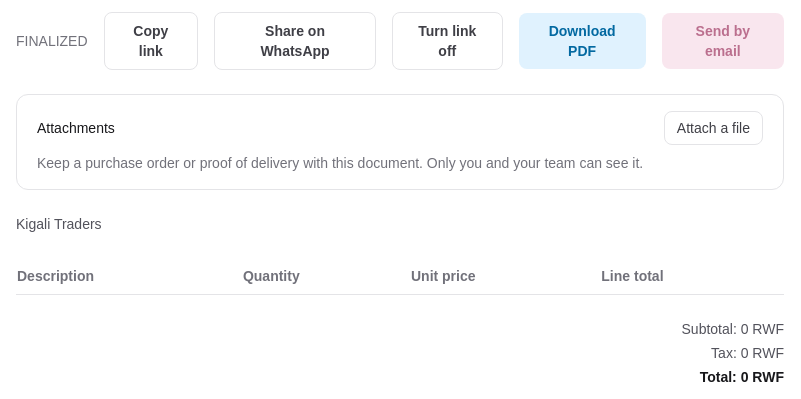
Test: DocumentView › copies the public share link and shows a confirmation
The image size is (801, 399).
Click the button "Copy link": (151, 41) [104,12,198,70]
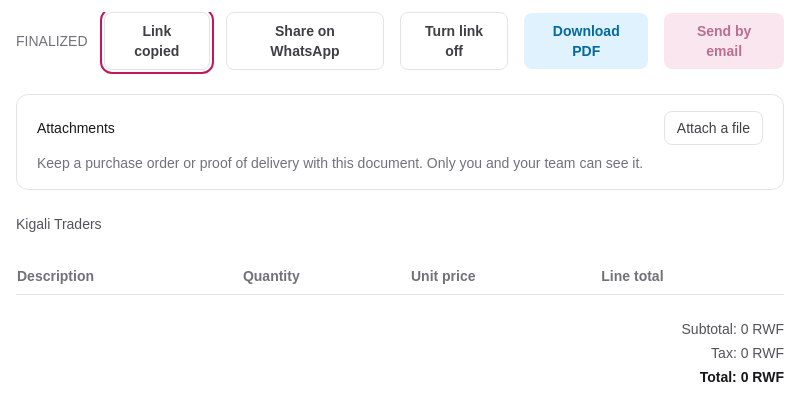
Now the button "Link copied" is shown, box [104,12,210,70]
